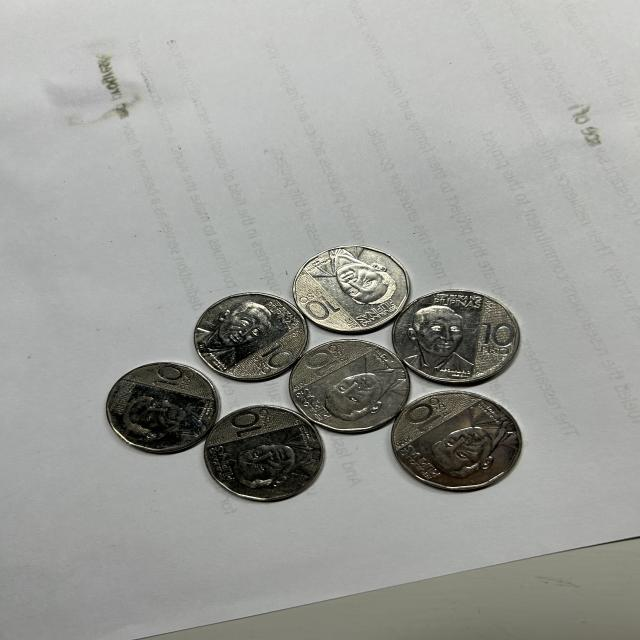10_New_Front: (389, 386, 458, 432), (475, 313, 519, 368), (242, 329, 293, 373), (148, 362, 199, 398), (298, 281, 338, 326), (222, 414, 276, 444), (302, 348, 340, 385)
